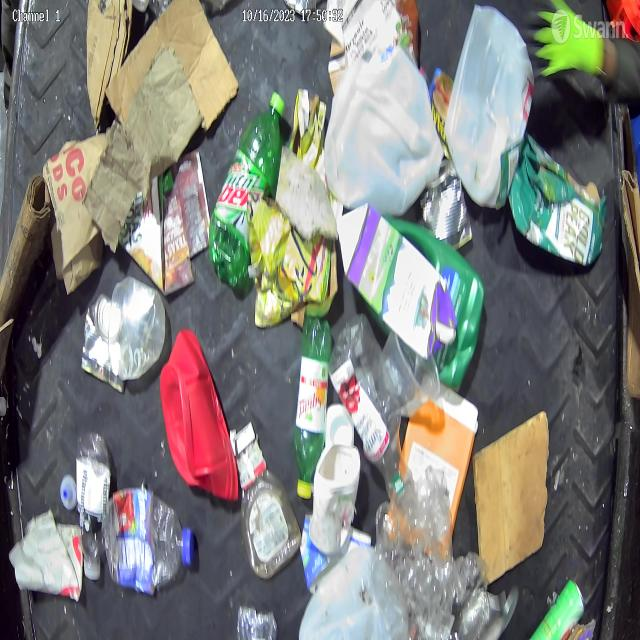can: (419, 157, 473, 250), (80, 292, 126, 392), (528, 577, 585, 640)
milk_jug: (324, 46, 443, 216), (444, 2, 535, 210), (299, 545, 408, 640)
non_white_jug: (337, 205, 458, 359), (381, 215, 485, 392), (160, 329, 239, 500), (509, 135, 606, 265)
plastic_bottle: (208, 81, 287, 289), (328, 313, 414, 499), (233, 422, 302, 581), (103, 486, 196, 595), (294, 314, 332, 500), (108, 277, 166, 379), (381, 329, 441, 418), (77, 430, 110, 580), (236, 604, 277, 640)
